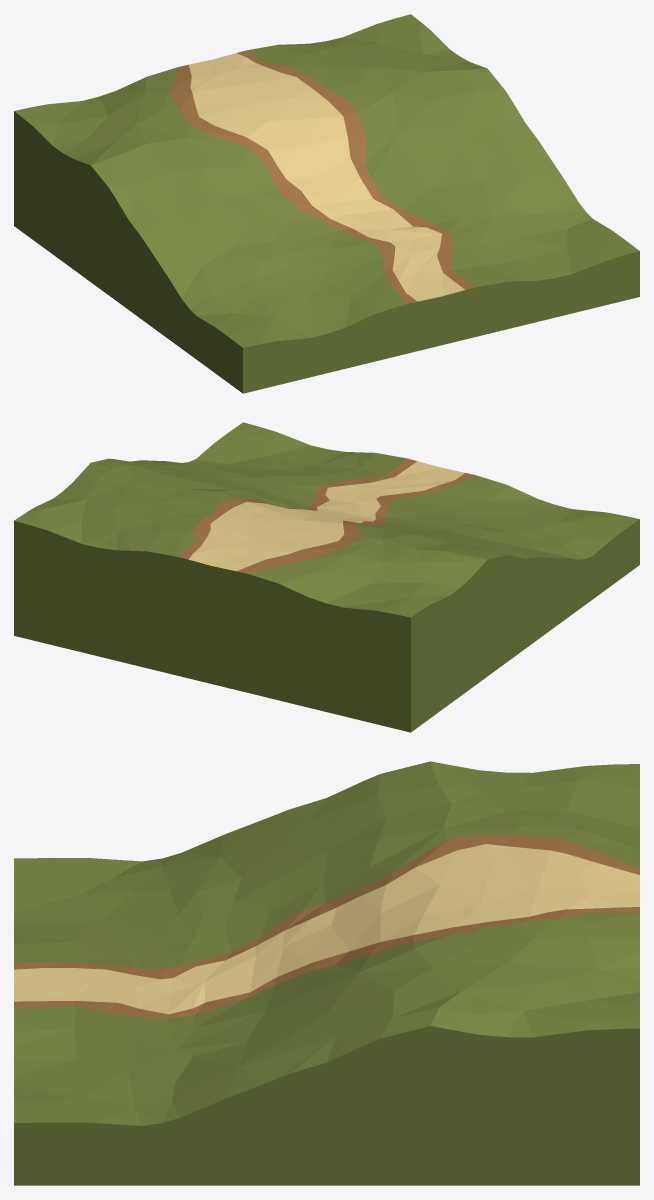
Rendered from Terrian_Road_Straight_Hill-03.fbx.
The picture shows the model from 3 angles, top to bottom: view 1: azimuth 30°, elevation 25°; view 2: azimuth 150°, elevation 25°; view 3: azimuth 270°, elevation 25°; orthographic projection. The views are drawn at different scales.
Parts seen in each view (by area): view 1: Terrian_Road_Straight_Hill-03; view 2: Terrian_Road_Straight_Hill-03; view 3: Terrian_Road_Straight_Hill-03.
Part boxes in pixels (x1,y1,x2,y2): Terrian_Road_Straight_Hill-03: (14,14,639,393); Terrian_Road_Straight_Hill-03: (14,422,639,732); Terrian_Road_Straight_Hill-03: (14,761,639,1185).
Size of the model in its own units: 3600 by 1063 by 3600.
1 material, 1 textured.
